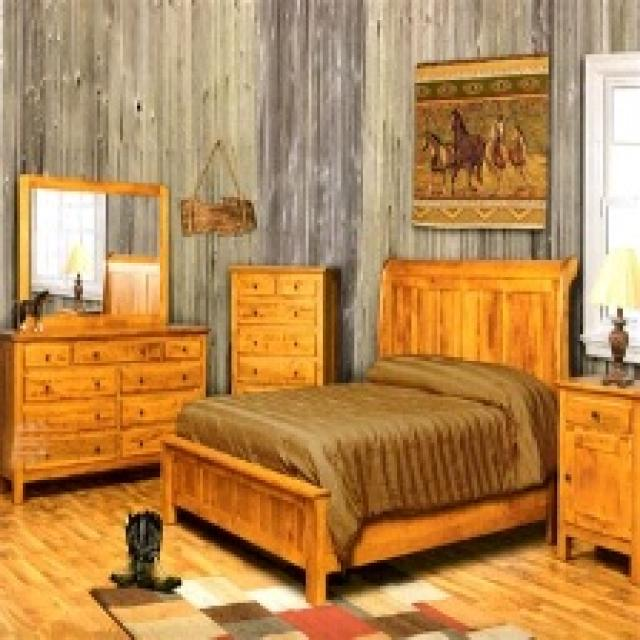Bed: (157, 254, 577, 606)
